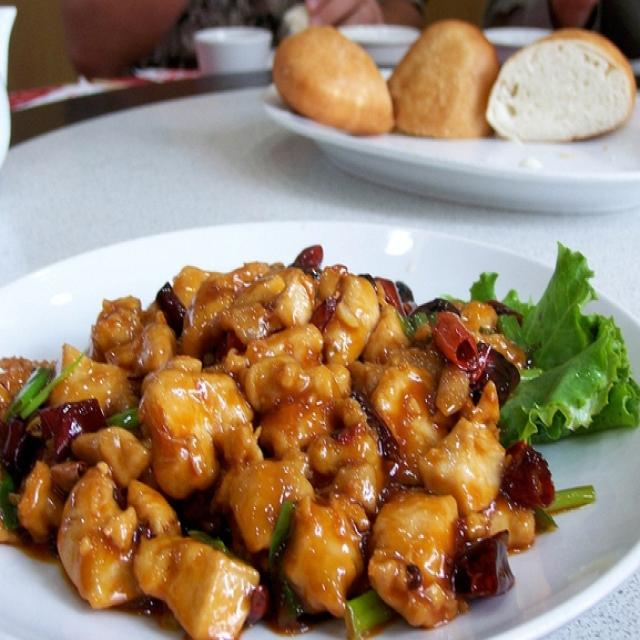鸡肉料理 含炸鸡: (10, 226, 599, 634)
